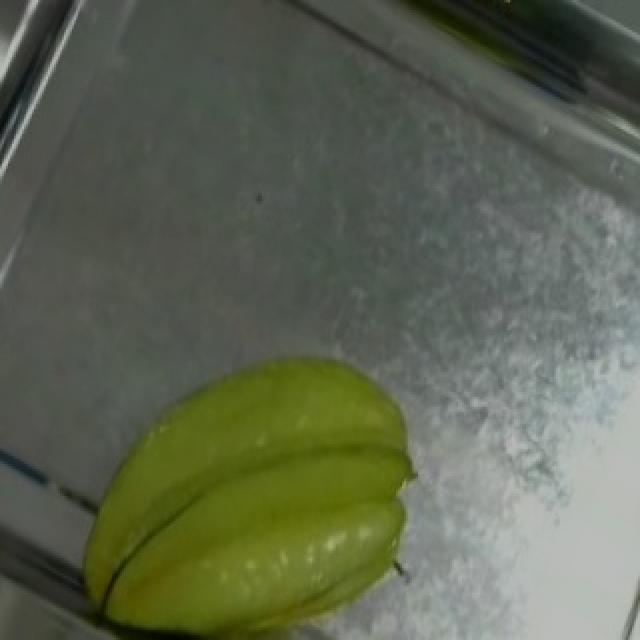fruit: (52, 295, 456, 640)
